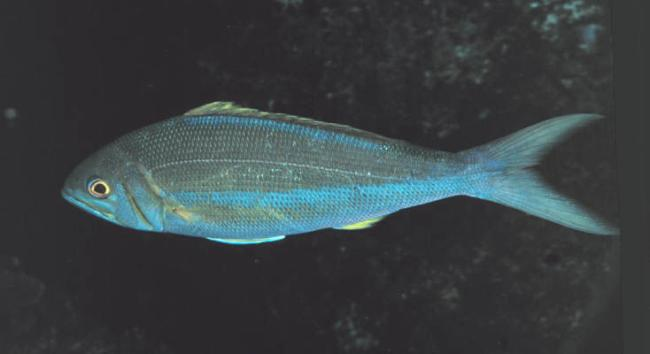fish: (60, 100, 623, 245)
